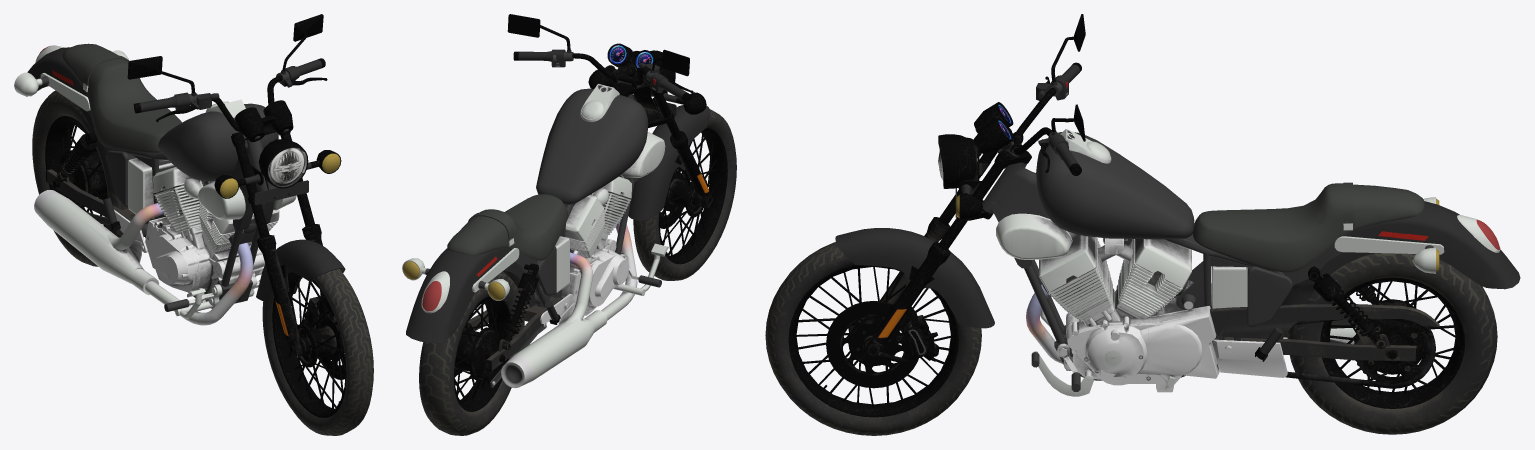
Rendered from Bike.fbx.
3 views of the same model, side by side, from view 1: azimuth 30°, elevation 25°; view 2: azimuth 150°, elevation 25°; view 3: azimuth 270°, elevation 25° (orthographic). The views are drawn at different scales.
Parts seen in each view (by area): view 1: Body, FrontTyre, FrontAxel, BackTyre, BackAxel, Handle/Tyres, Lights; view 2: Body, BackTyre, FrontTyre, BackAxel, FrontAxel, Handle/Tyres, Lights; view 3: Body, FrontTyre, BackTyre, BackAxel, FrontAxel, Handle/Tyres, Lights.
Part boxes in pixels (x1=…): Body: x1=14, y1=43, x2=302, y2=325; FrontTyre: x1=262, y1=269, x2=373, y2=435; FrontAxel: x1=127, y1=14, x2=341, y2=357; BackTyre: x1=32, y1=90, x2=128, y2=266; BackAxel: x1=26, y1=47, x2=163, y2=236; Handle/Tyres: x1=256, y1=239, x2=345, y2=329; Lights: x1=39, y1=46, x2=340, y2=197; Body: x1=402, y1=84, x2=668, y2=388; BackTyre: x1=419, y1=271, x2=524, y2=435; FrontTyre: x1=633, y1=109, x2=736, y2=280; BackAxel: x1=406, y1=248, x2=562, y2=384; FrontAxel: x1=507, y1=14, x2=713, y2=208; Handle/Tyres: x1=628, y1=105, x2=710, y2=220; Lights: x1=402, y1=45, x2=653, y2=311; Body: x1=982, y1=129, x2=1500, y2=396; FrontTyre: x1=765, y1=242, x2=981, y2=435; BackTyre: x1=1287, y1=253, x2=1497, y2=434; BackAxel: x1=1210, y1=201, x2=1520, y2=388; FrontAxel: x1=862, y1=14, x2=1085, y2=359; Handle/Tyres: x1=835, y1=228, x2=994, y2=361; Lights: x1=938, y1=104, x2=1499, y2=272.
Bounding box in the file's own units: 73.17 × 116 × 217.
Materials: 3 (3 with a texture image).
